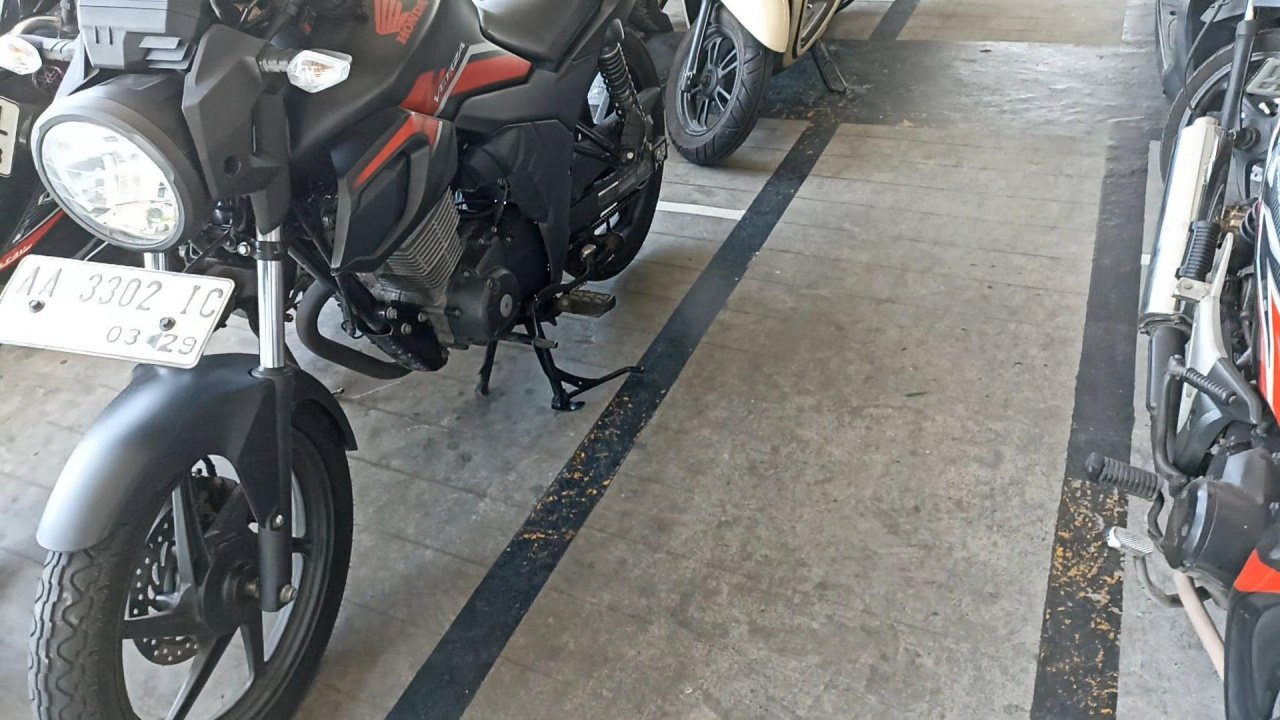plate: (0, 255, 235, 368)
